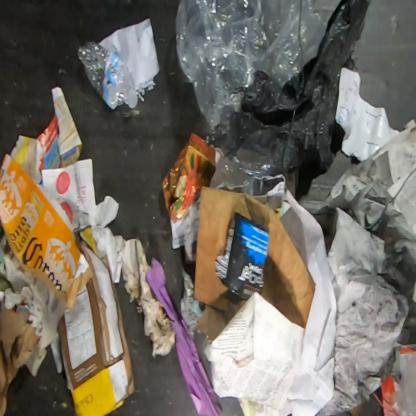cardboard: (193, 186, 315, 329), (0, 153, 94, 320), (59, 226, 136, 416), (0, 304, 43, 415), (382, 375, 397, 415)
rigid_plastic: (76, 40, 138, 110), (395, 352, 415, 415)
soft_plastic: (205, 1, 369, 199), (174, 1, 341, 132), (209, 128, 284, 194)
